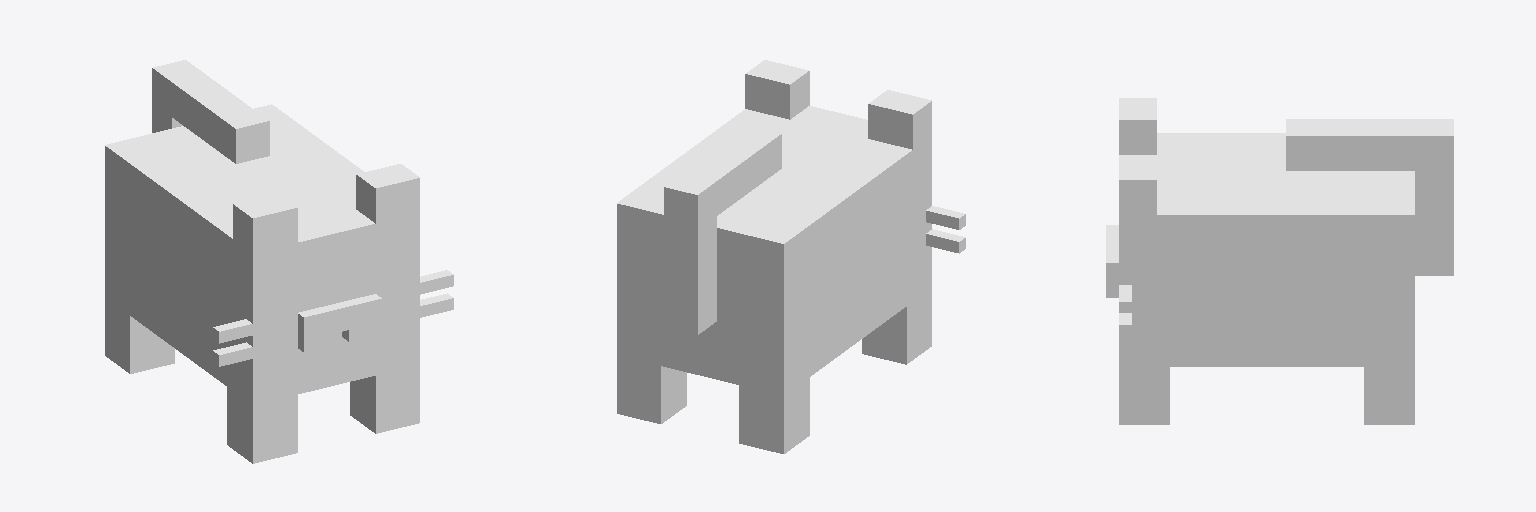
The model's file is CheeseCat.obj.
3 views of the same model, side by side, from view 1: azimuth 30°, elevation 25°; view 2: azimuth 150°, elevation 25°; view 3: azimuth 270°, elevation 25° (orthographic).
Parts seen in each view (by area): view 1: object 1; view 2: object 1; view 3: object 1.
Part boxes in pixels (bbox=[...]): object 1: bbox=[105, 60, 453, 463]; object 1: bbox=[617, 60, 965, 453]; object 1: bbox=[1106, 98, 1453, 424].
Size of the model in its own units: 2.1 by 2.2 by 2.7.